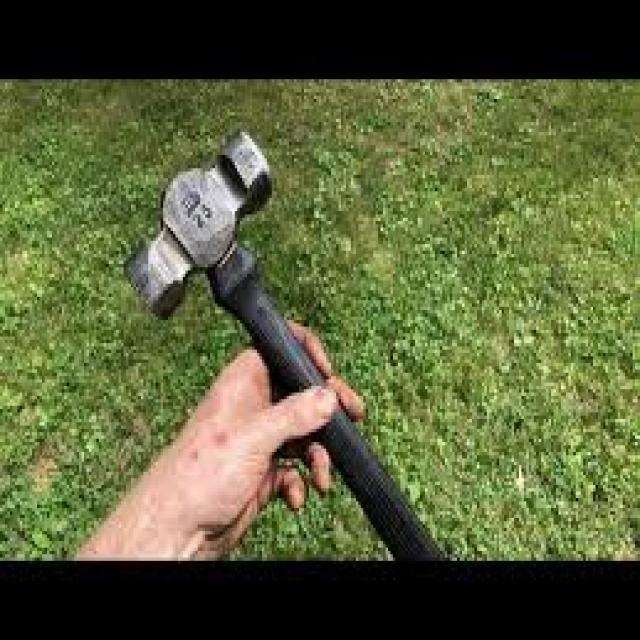hammer: (121, 118, 452, 564)
